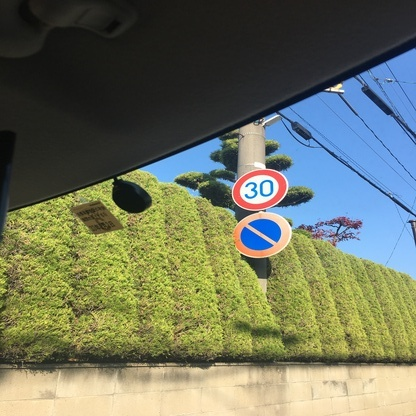Prohibition_sign: (230, 212, 295, 261)
Speed_sign: (231, 167, 287, 213)
